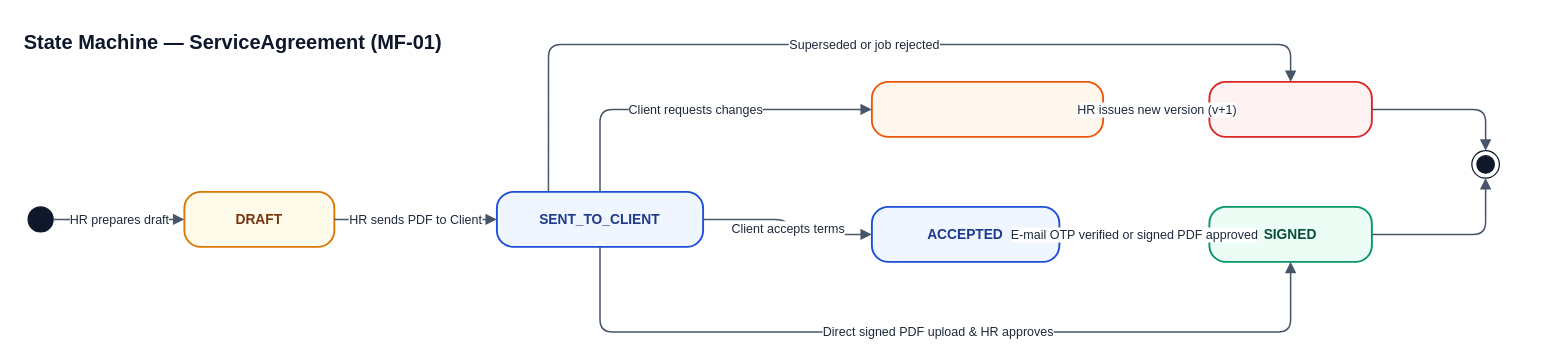
Some shapes in this 1543 by 364 pixel diagram are drawn without their labels. Each missing label, with the centre of its shape:
"CHANGE_REQUESTED" goes at point 987,108.
"VOID" goes at point 1290,108.
